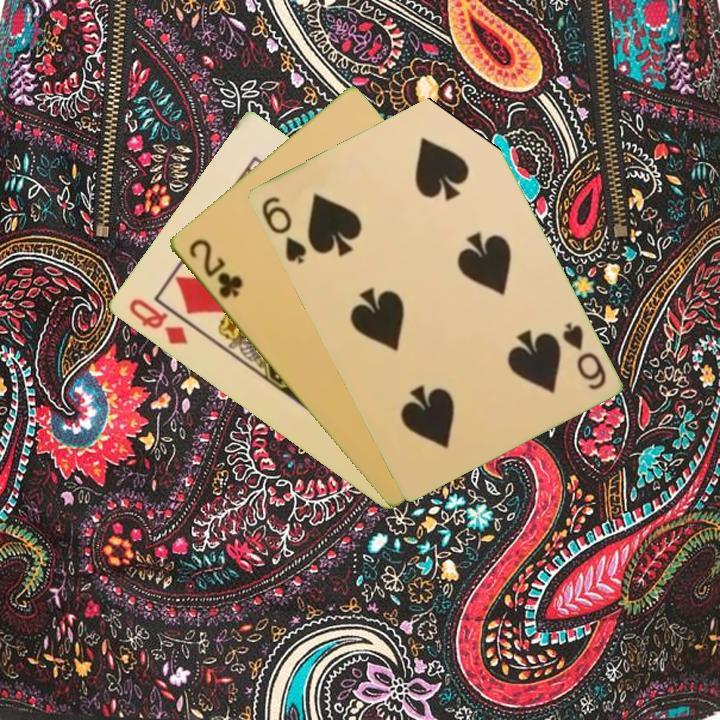2c: (184, 235, 246, 302)
6s: (257, 193, 309, 267), (558, 318, 609, 393)
Qd: (124, 294, 191, 348)
